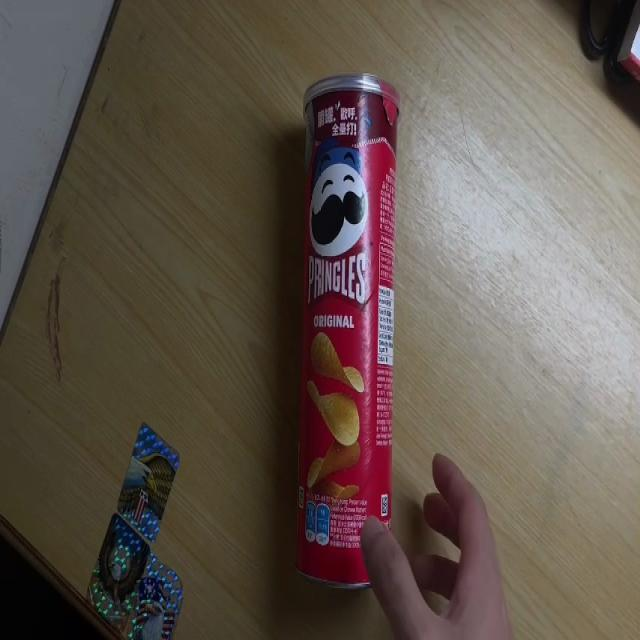Pringles: (293, 74, 401, 590)
